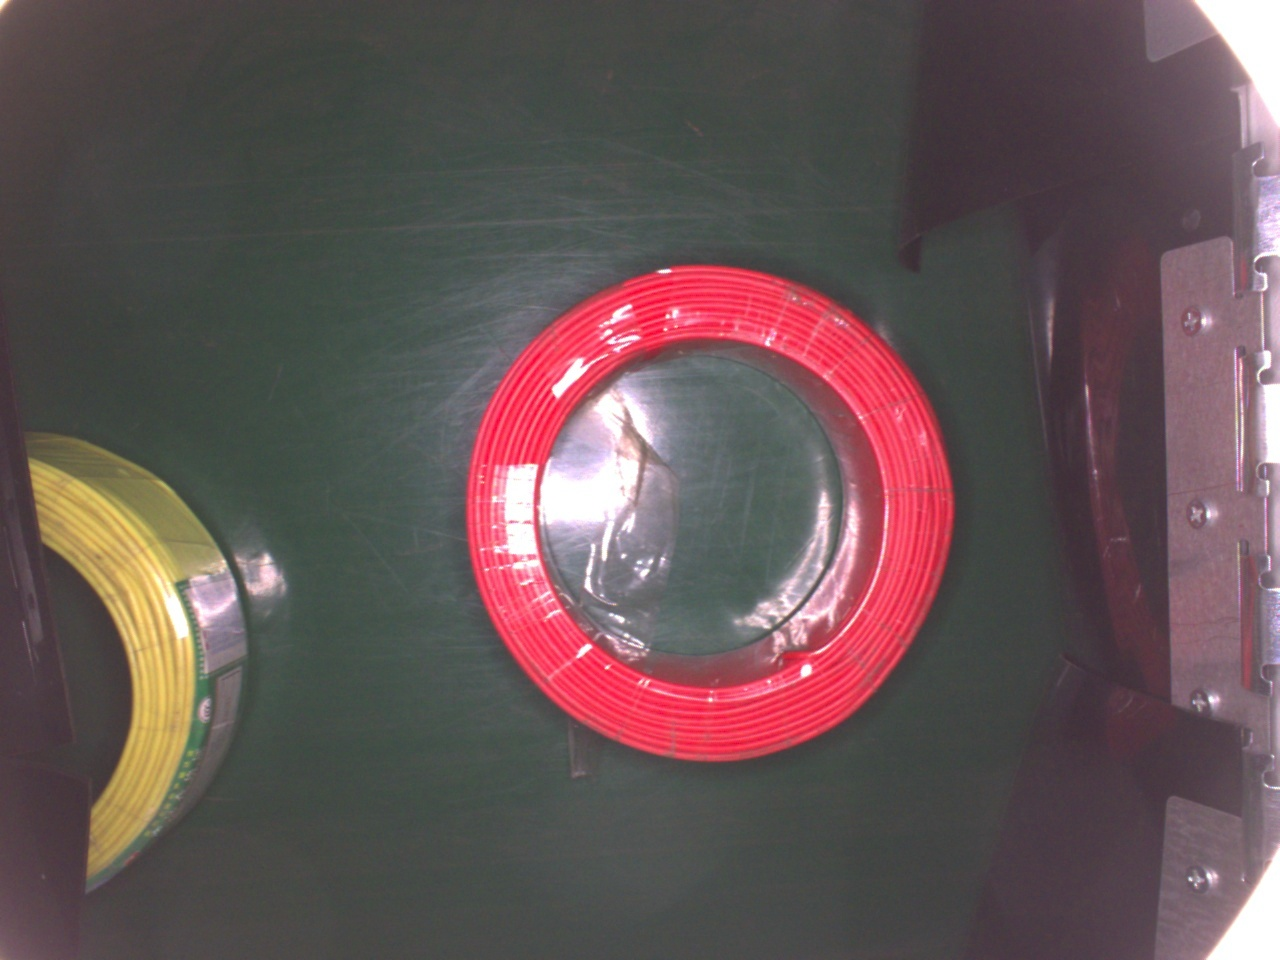red: (460, 261, 972, 761)
yellow: (27, 425, 246, 899)
